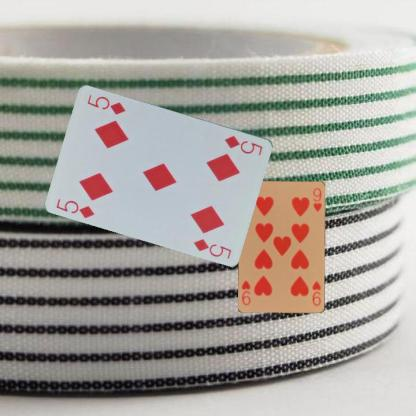5d: (222, 132, 264, 157), (54, 196, 96, 219)
9h: (309, 278, 322, 307)
